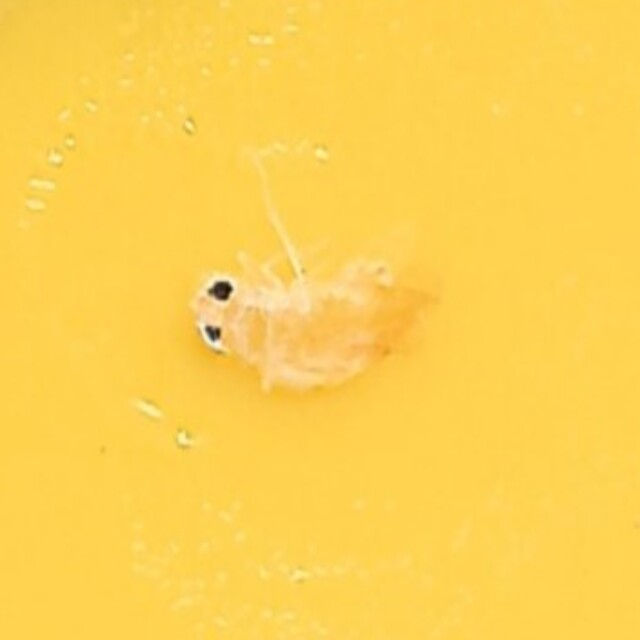Hemiptera: (182, 233, 458, 407)
